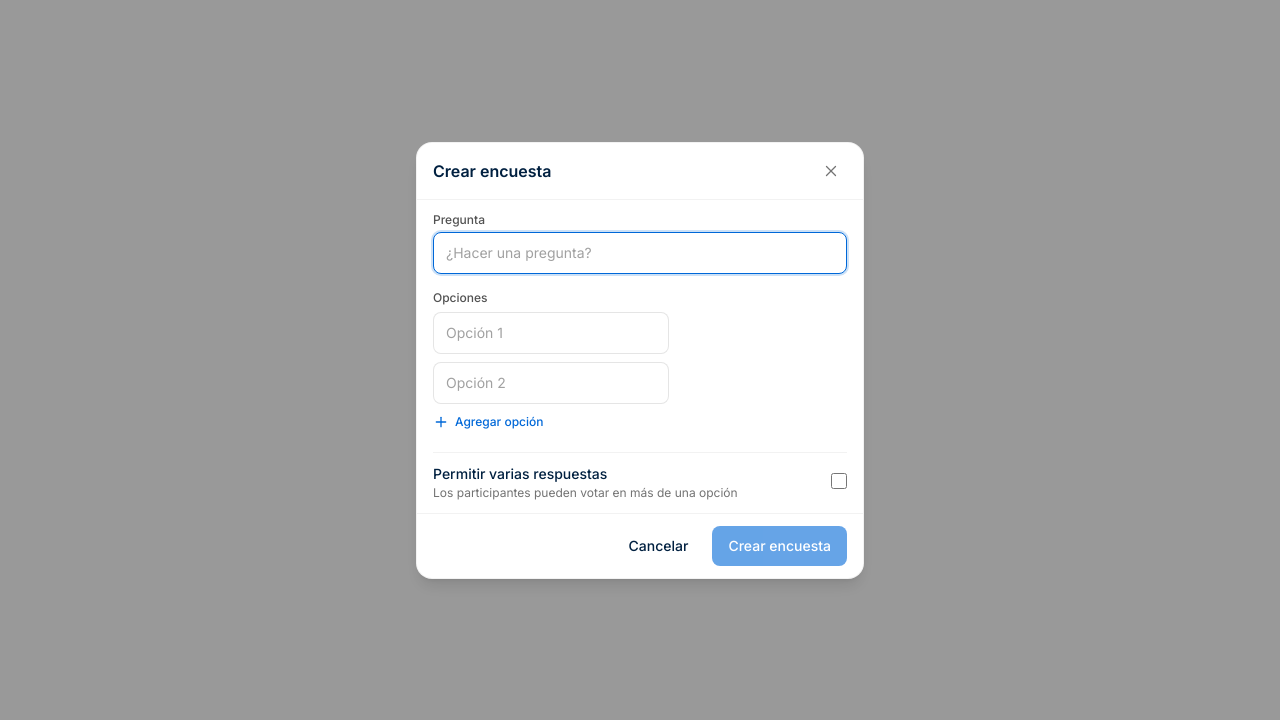
Test case: CreatePollModal › muestra error al intentar enviar opciones duplicadas
In the field labelled "Pregunta": (640, 252) [433,232,847,274], type "¿Qué comemos?"
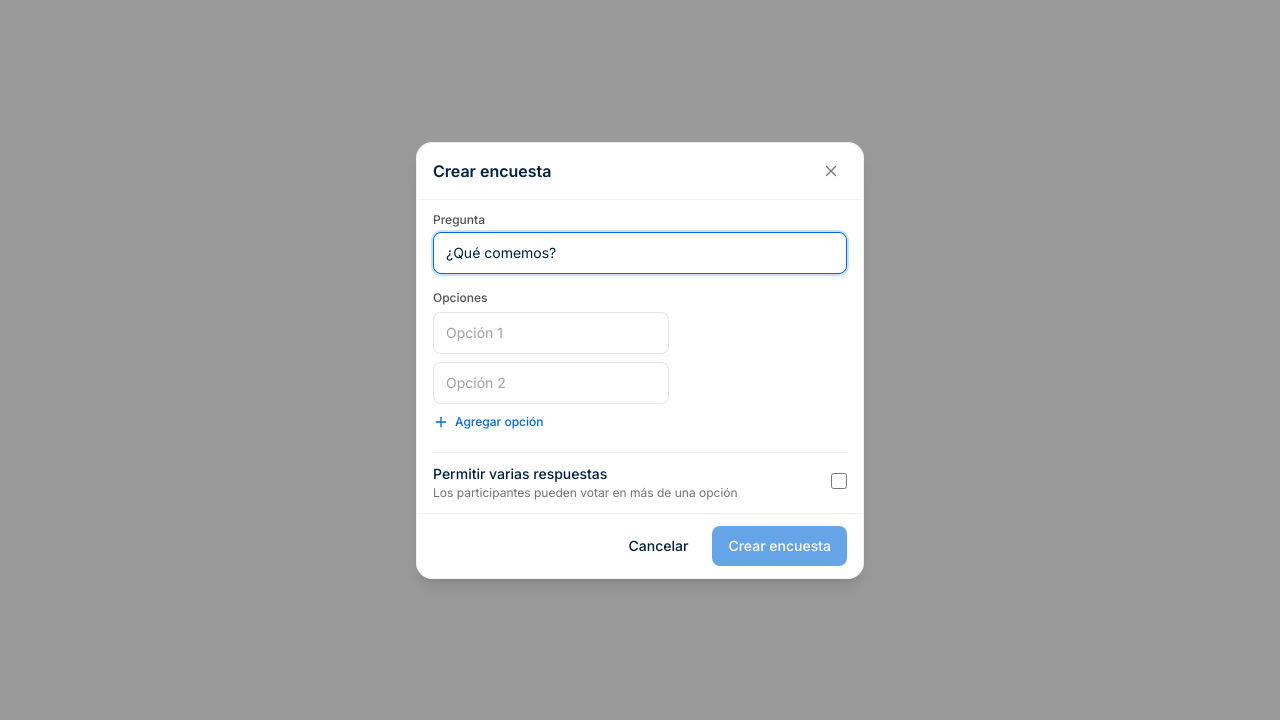
In the field with placeholder "Opción 1": (551, 332) [433,312,669,354], type "Pizza"
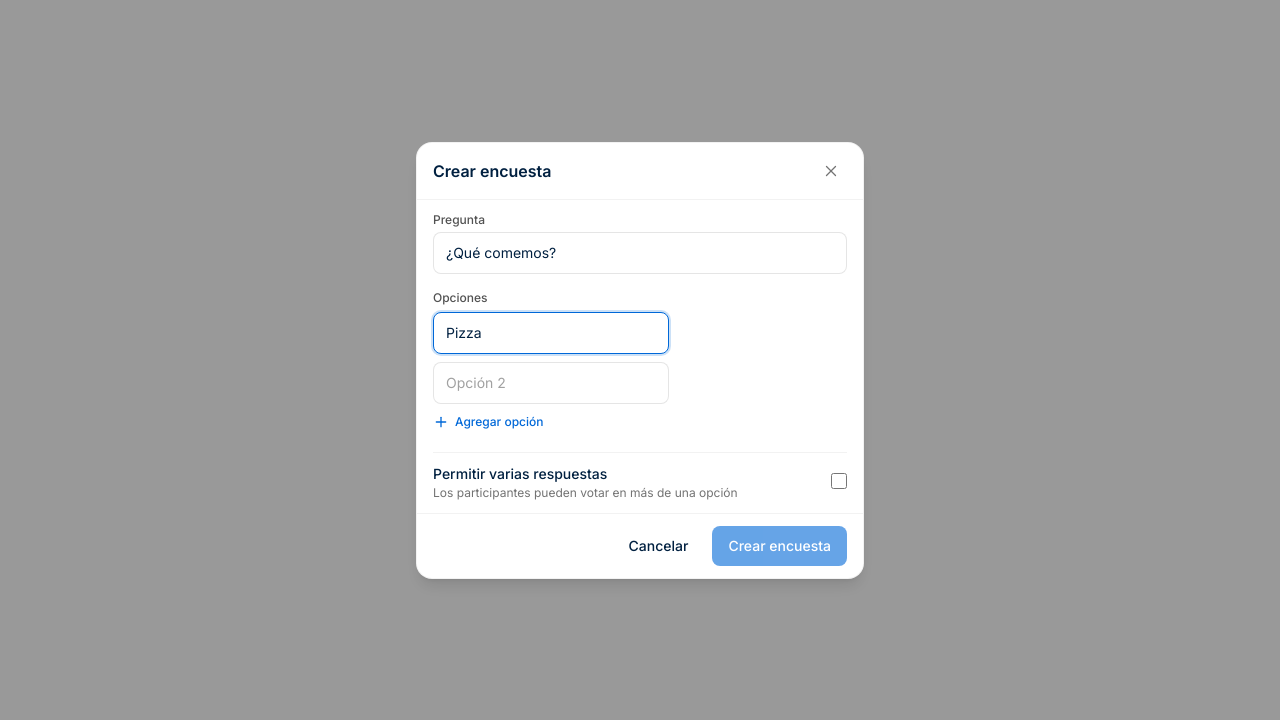
In the field with placeholder "Opción 2": (551, 382) [433,362,669,404], type "pizza"
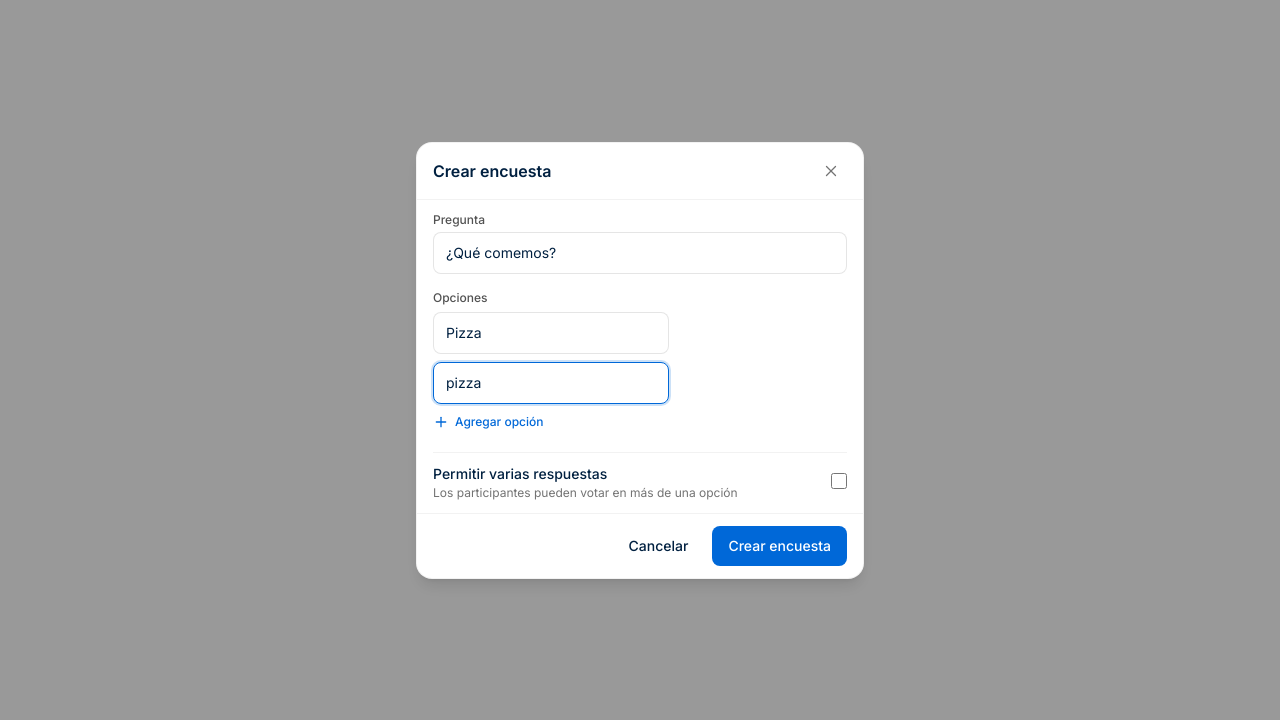
Click the button "Crear encuesta": (780, 546) [712,526,847,566]
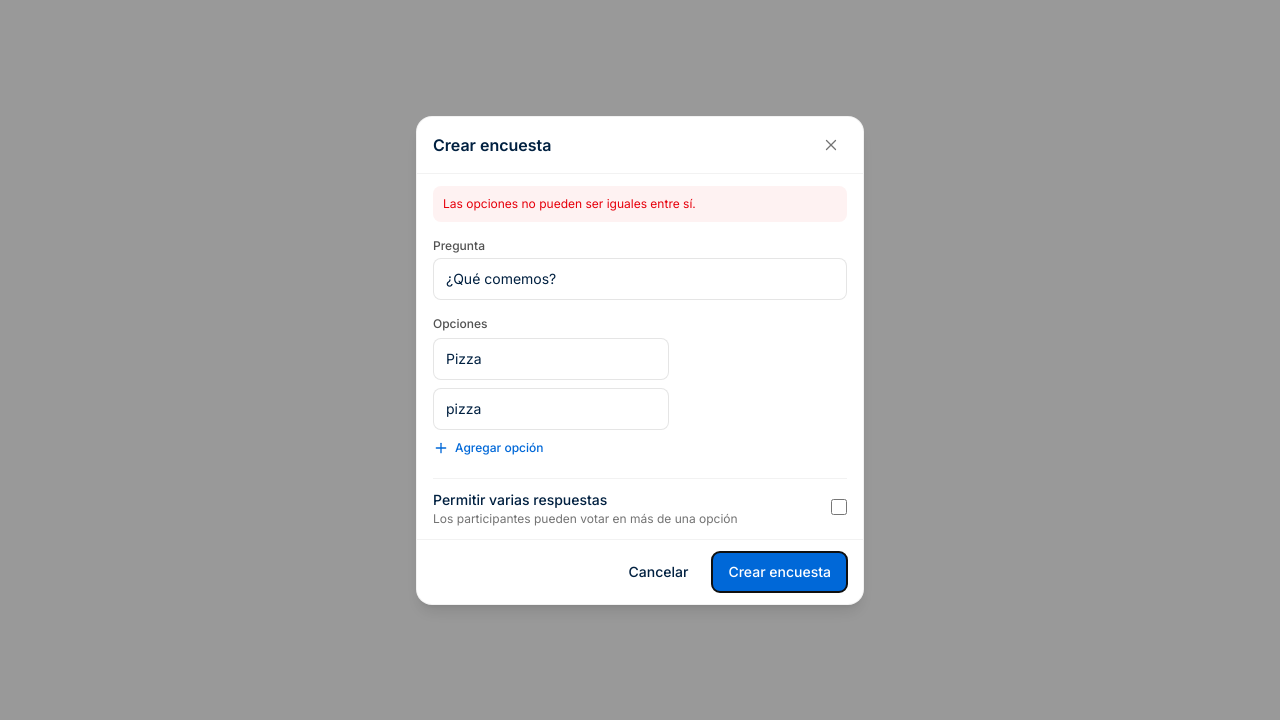
Now the text "Las opciones no pueden ser iguales entre sí." is shown, box [433,186,847,222]
